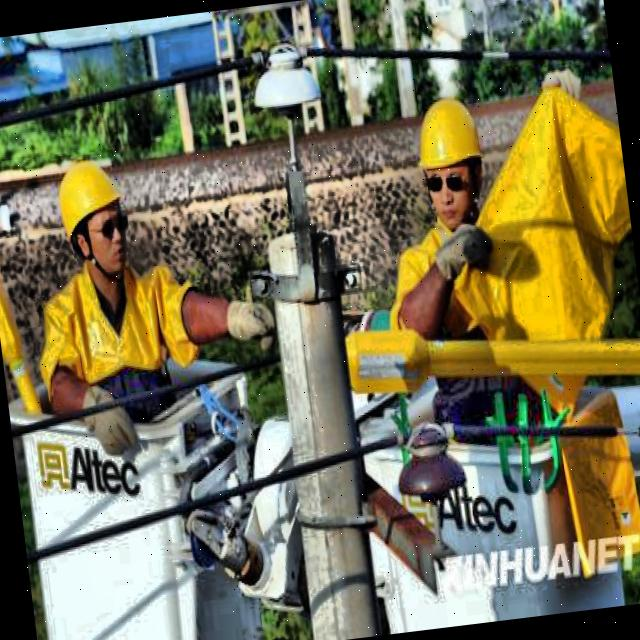helmet: (406, 82, 498, 232), (44, 152, 133, 287)
